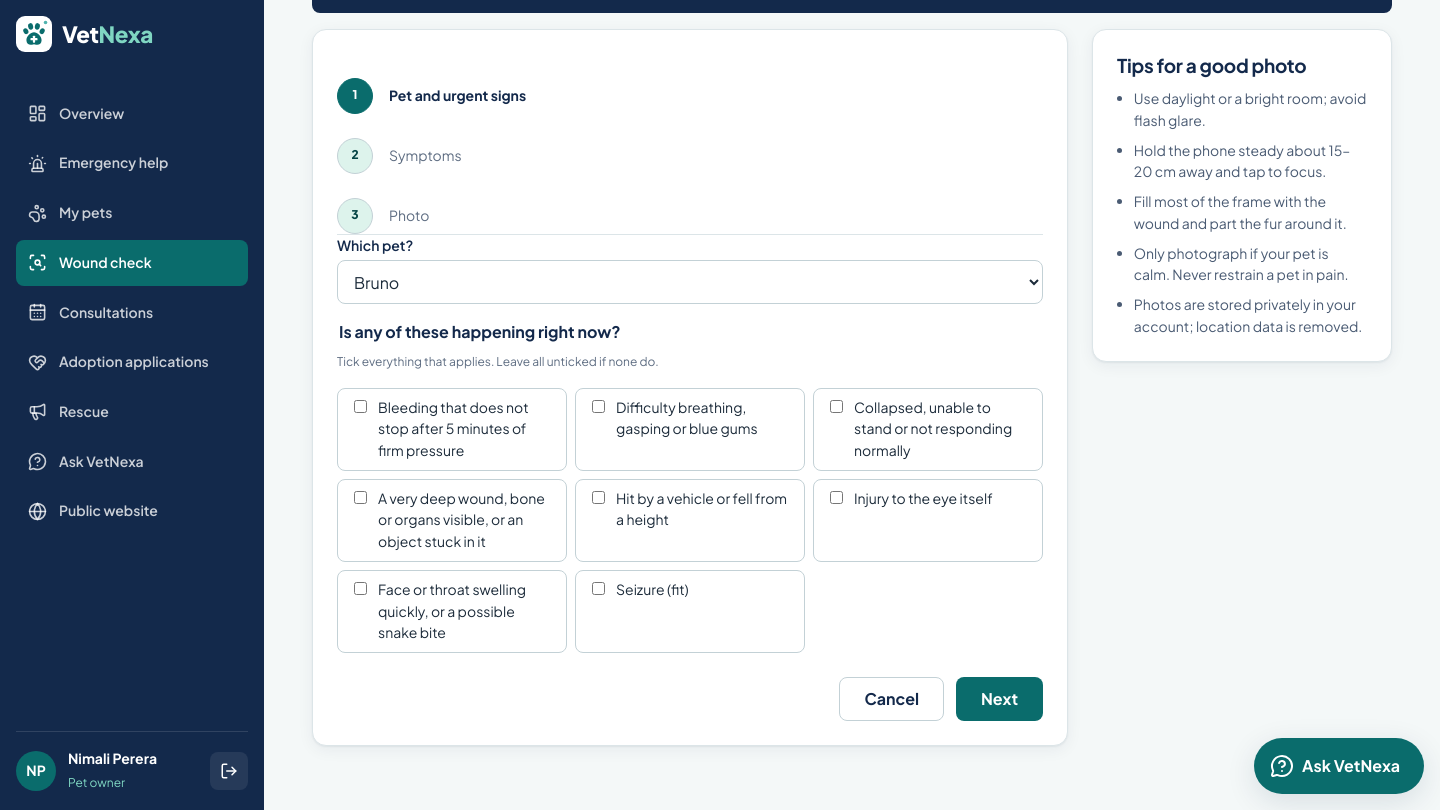
Test case: new wound check › requires a photo and the acknowledgement on the last step
The image size is (1440, 810).
(page scrolled)
Click the button "Next": (1000, 699) [956, 677, 1043, 721]
(page scrolled)
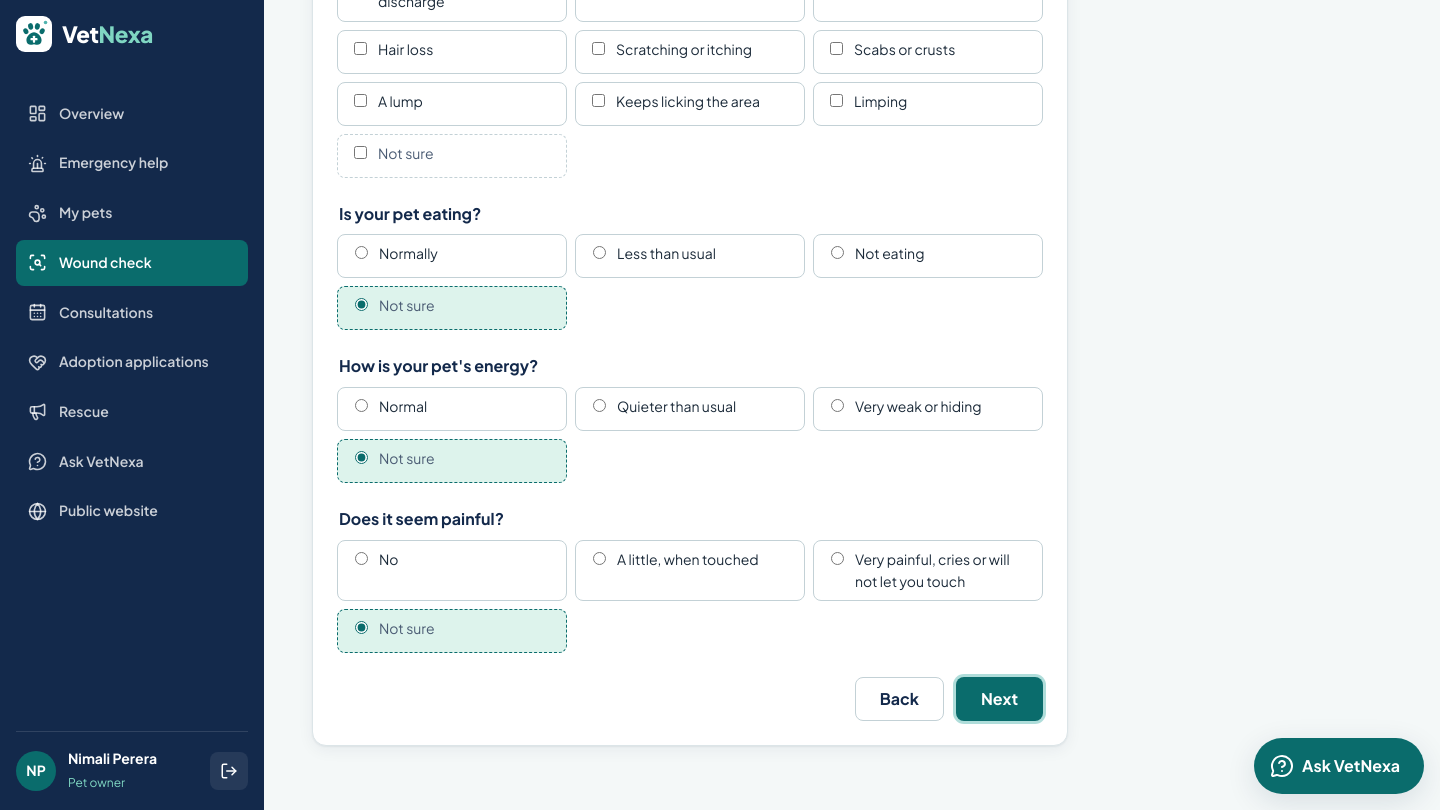
Click the button "Next": (1000, 699) [956, 677, 1043, 721]
(page scrolled)
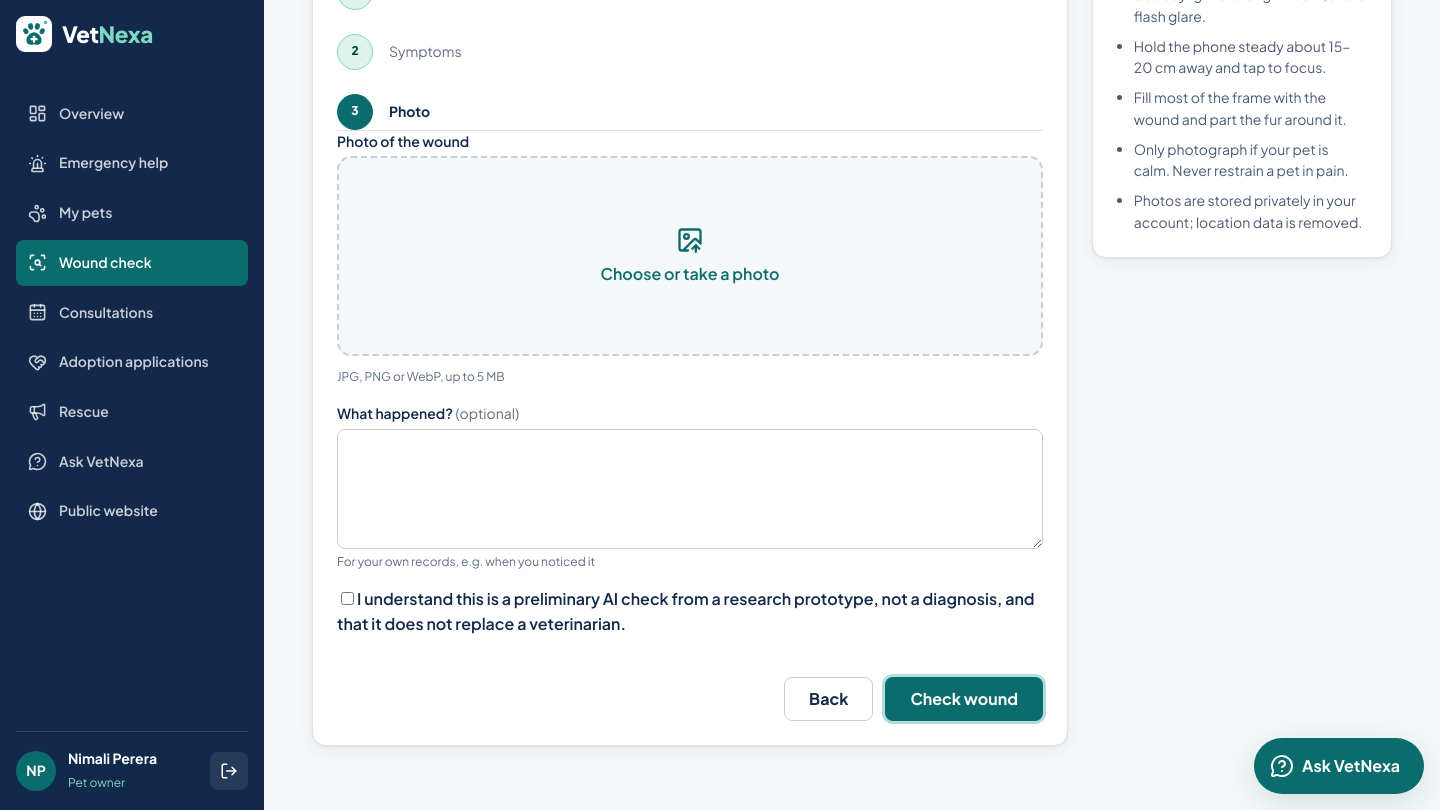
Click the button "Check wound": (964, 699) [885, 677, 1043, 721]
(page scrolled)
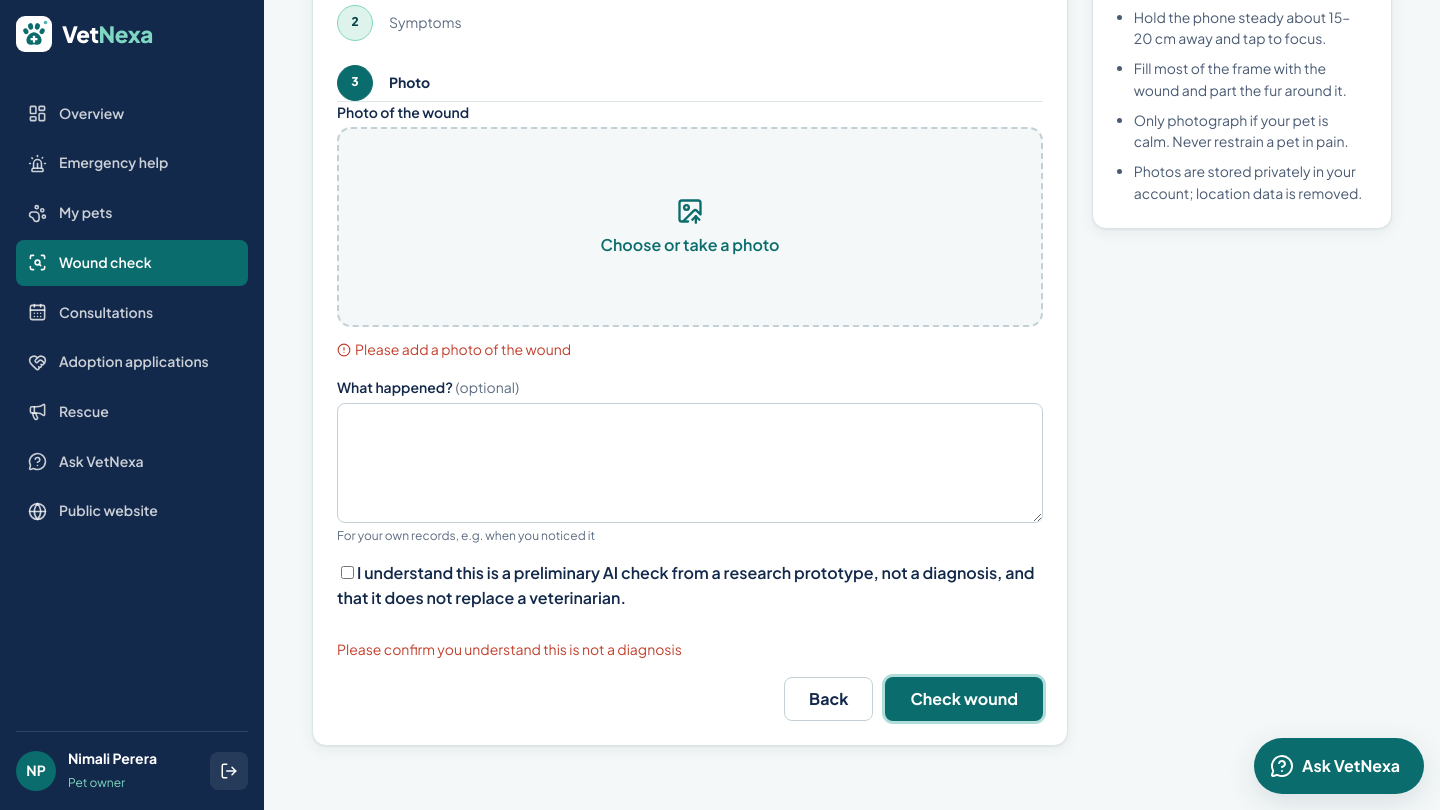
Expected: the text "Please add a photo of the wound" is shown, [337, 340, 571, 358]
Expected: the text "Please confirm you understand this is not a diagnosis" is shown, [337, 640, 682, 658]
